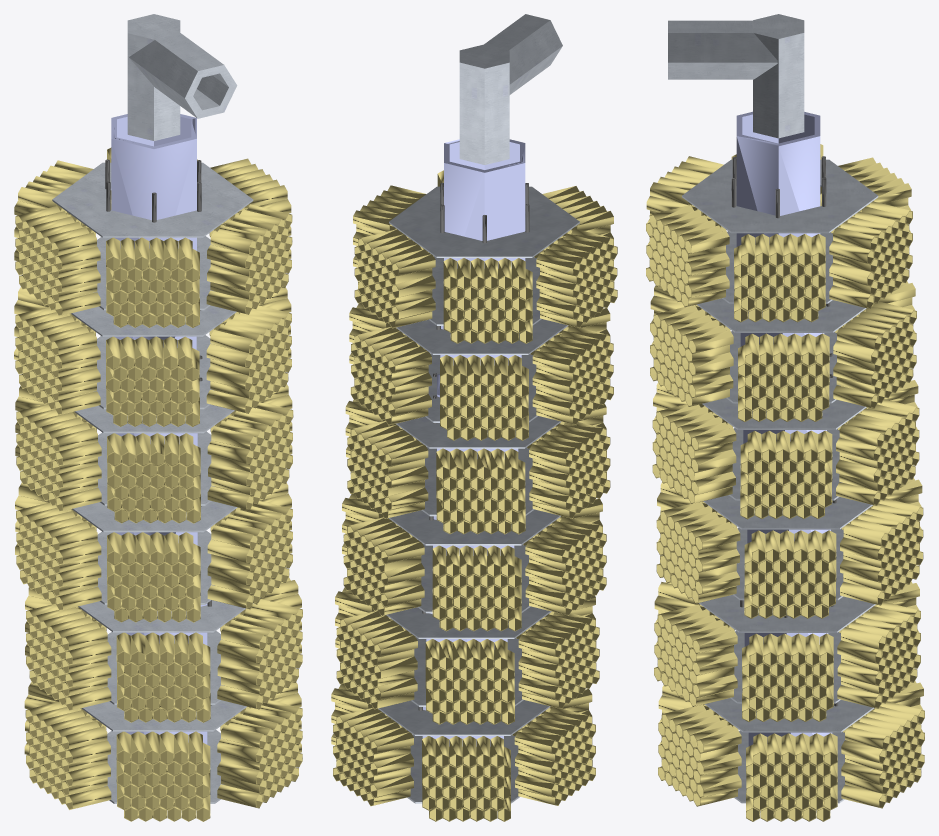
The picture shows the model from 3 angles, left to right: view 1: azimuth 30°, elevation 25°; view 2: azimuth 150°, elevation 25°; view 3: azimuth 270°, elevation 25°; orthographic projection. The views are drawn at different scales.
Visible parts, largest first — view 1: obj4, obj2, obj6, obj47, obj529, obj1010, obj86, obj2190, obj1453, obj1457, obj1014, obj1 (+55 smaller); view 2: obj4, obj2, obj47, obj6, obj1010, obj2190, obj86, obj1453, obj529, obj1014, obj1457, obj1 (+41 smaller); view 3: obj4, obj2, obj6, obj47, obj529, obj86, obj1010, obj2190, obj1453, obj90, obj1, obj533 (+48 smaller).
Boxes of the visible parts, left/top/right/bottom form: obj4: left=111, top=114, right=196, bottom=250; obj2: left=52, top=162, right=253, bottom=237; obj6: left=129, top=24, right=237, bottom=118; obj47: left=127, top=14, right=180, bottom=140; obj529: left=78, top=597, right=260, bottom=632; obj1010: left=72, top=501, right=237, bottom=532; obj86: left=81, top=700, right=246, bottom=731; obj2190: left=71, top=305, right=236, bottom=336; obj1453: left=74, top=404, right=234, bottom=433; obj1457: left=94, top=431, right=214, bottom=505; obj1014: left=94, top=530, right=214, bottom=604; obj1: left=93, top=236, right=213, bottom=310; obj4: left=444, top=139, right=525, bottom=268; obj2: left=389, top=186, right=579, bottom=257; obj47: left=459, top=44, right=509, bottom=164; obj6: left=473, top=14, right=562, bottom=94; obj1010: left=388, top=509, right=560, bottom=545; obj2190: left=396, top=319, right=568, bottom=354; obj86: left=378, top=700, right=550, bottom=735; obj1453: left=395, top=416, right=561, bottom=448; obj529: left=386, top=606, right=551, bottom=638; obj1014: left=418, top=544, right=530, bottom=613; obj1457: left=421, top=447, right=534, bottom=516; obj1: left=429, top=256, right=541, bottom=325; obj4: left=736, top=111, right=820, bottom=246; obj2: left=682, top=159, right=878, bottom=233; obj6: left=668, top=20, right=777, bottom=79; obj47: left=753, top=14, right=804, bottom=138; obj529: left=692, top=595, right=875, bottom=632; obj86: left=705, top=698, right=874, bottom=732; obj1010: left=703, top=495, right=872, bottom=529; obj2190: left=696, top=298, right=866, bottom=332; obj1453: left=702, top=398, right=866, bottom=429; obj90: left=734, top=730, right=848, bottom=803; obj1: left=722, top=231, right=836, bottom=303; obj533: left=730, top=631, right=844, bottom=703.
Size of the model in its own units: 15538 by 45044 by 15536.
Materials: 6 (2 with a texture image).
